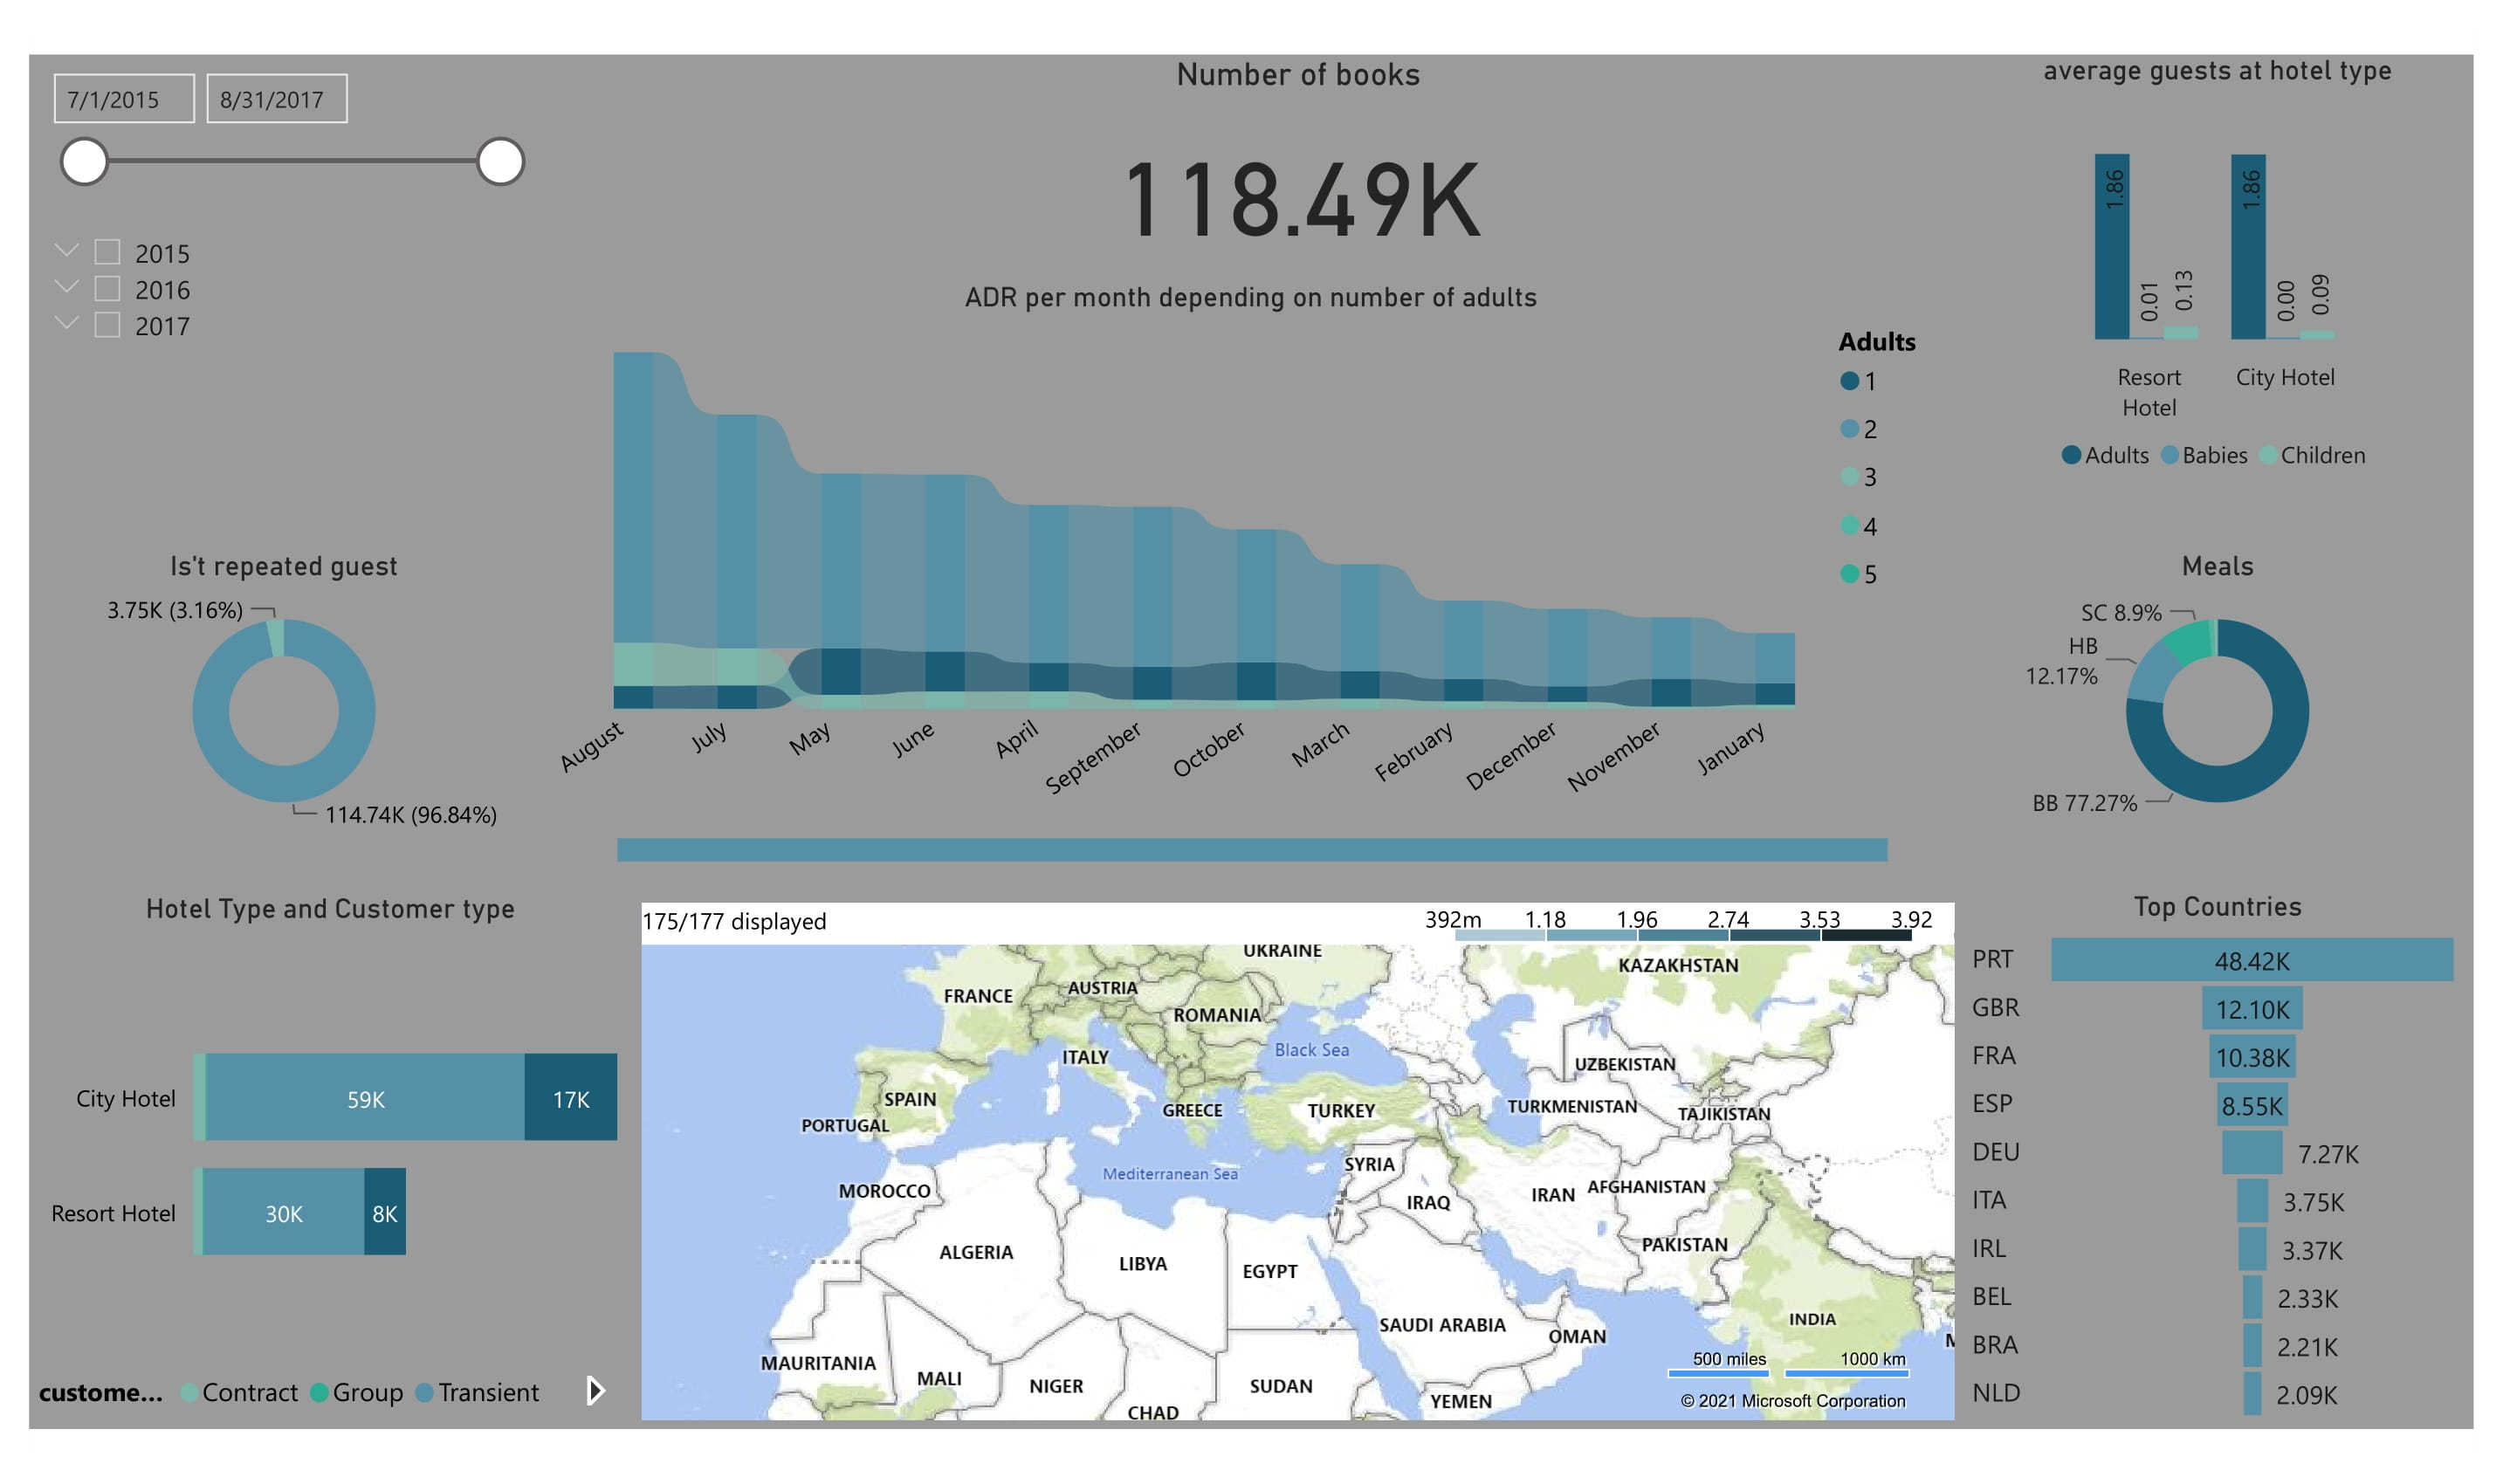

This screenshot's page, from the dashboard's own definition file:
{"tool":"powerbi","page":{"name":"Page 1","canvas":[1280,720],"ordinal":0},"visuals":[{"type":"heatmapF244EA9EE1F34E828A80CF19B41976F8","fields":{"location":["result.country"]},"box":[315.9,439.1,696.7,280.7],"z":0},{"type":"slicer","fields":{"Values":["result.date"]},"box":[0,0,267.5,88.5],"z":1},{"type":"slicer","fields":{"Values":["result.date.Variation.Date Hierarchy.Year","result.date.Variation.Date Hierarchy.Quarter","result.date.Variation.Date Hierarchy.Month","result.date.Variation.Date Hierarchy.Day"]},"box":[0,88,267.4,171.7],"z":2},{"type":"funnel","title":"Top Countries","fields":{"Category":["result.country"],"Y":["CountNonNull(result.country)"]},"box":[1012.6,438,267.4,281.8],"z":3},{"type":"barChart","title":"Hotel Type and Customer type","fields":{"Category":["result.hotel"],"Y":["CountNonNull(result.is_canceled)"],"Series":["result.customer_type"]},"box":[0,439.1,315.9,280.7],"z":4},{"type":"card","title":"Number of books","fields":{"Values":["CountNonNull(result.is_canceled)"]},"box":[552.5,0,224.5,118.9],"z":5},{"type":"donutChart","title":"Is''t repeated guest","fields":{"Y":["CountNonNull(result.is_repeated_guest)"],"Category":["result.is_repeated_guest"]},"box":[0,259.7,267.4,150.8],"z":6},{"type":"shape","box":[308.2,410.5,664.8,12.1],"z":7},{"type":"donutChart","title":"Meals","fields":{"Y":["CountNonNull(result.meal)"],"Category":["result.meal"]},"box":[1012.6,259.7,267.4,150.8],"z":8},{"type":"ribbonChart","title":"ADR per month depending on number of adults","fields":{"Category":["result.arrival_date_month"],"Y":["Sum(result.adr)"],"Series":["result.adults"]},"box":[267.4,118.9,745.1,291.7],"z":9},{"type":"clusteredColumnChart","title":"average guests at hotel type","fields":{"Category":["result.hotel"],"Y":["Avg(result.adults)","Avg(result.babies)","Avg(result.children)"]},"box":[1012.6,0,267.4,227.8],"z":10}]}

Visuals, with their boxes on the page's 1280x720 design canvas (x1, y1, x2, y2). These are canvas units, not pixel positions in the 2503x1484 screenshot, which may show the page scaled, cropped or inside an application window:
heatmapF244EA9EE1F34E828A80CF19B41976F8 - result.country: 316,439,1013,720
slicer - result.date: 0,0,268,88
slicer - result.date.Variation.Date Hierarchy.Year x result.date.Variation.Date Hierarchy.Quarter: 0,88,267,260
"Top Countries" funnel: 1013,438,1280,720
"Hotel Type and Customer type" barChart: 0,439,316,720
"Number of books" card: 552,0,777,119
"Is''t repeated guest" donutChart: 0,260,267,410
shape: 308,410,973,423
"Meals" donutChart: 1013,260,1280,410
"ADR per month depending on number of adults" ribbonChart: 267,119,1012,411
"average guests at hotel type" clusteredColumnChart: 1013,0,1280,228
